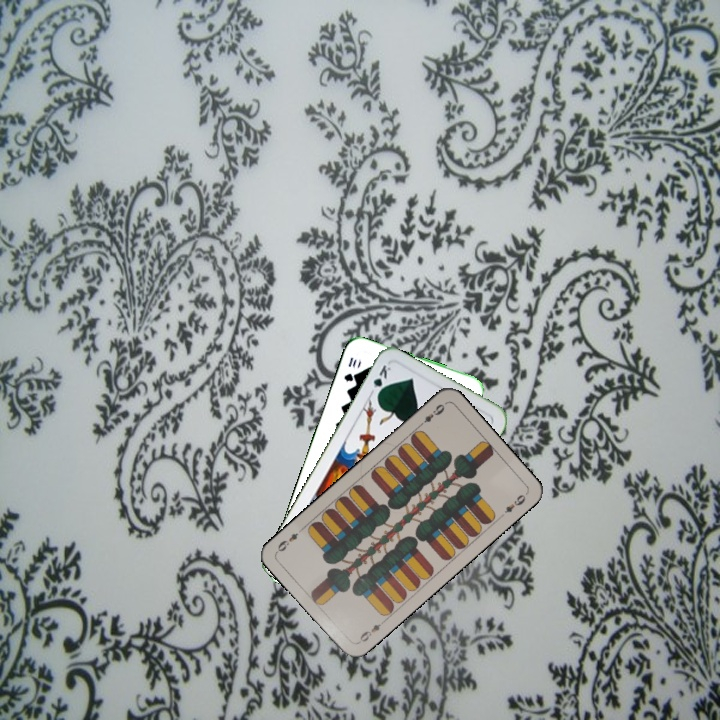E9: (354, 616, 388, 646), (415, 400, 447, 430)
G10: (340, 353, 359, 384)
GK: (369, 361, 394, 400)
